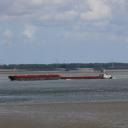tugboat: (100, 70, 114, 81)
